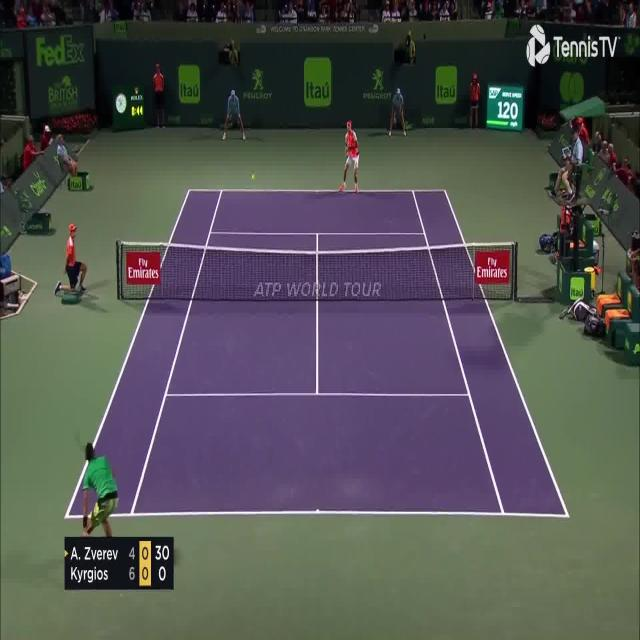bottom-dead-zone: (130, 394, 506, 516)
court: (64, 189, 571, 519)
left-doubles-alley: (64, 189, 223, 519)
left-service-box: (164, 232, 319, 396)
net: (116, 240, 519, 301)
right-doubles-alley: (412, 189, 571, 518)
right-service-box: (317, 233, 472, 396)
top-dead-zone: (209, 190, 427, 235)
